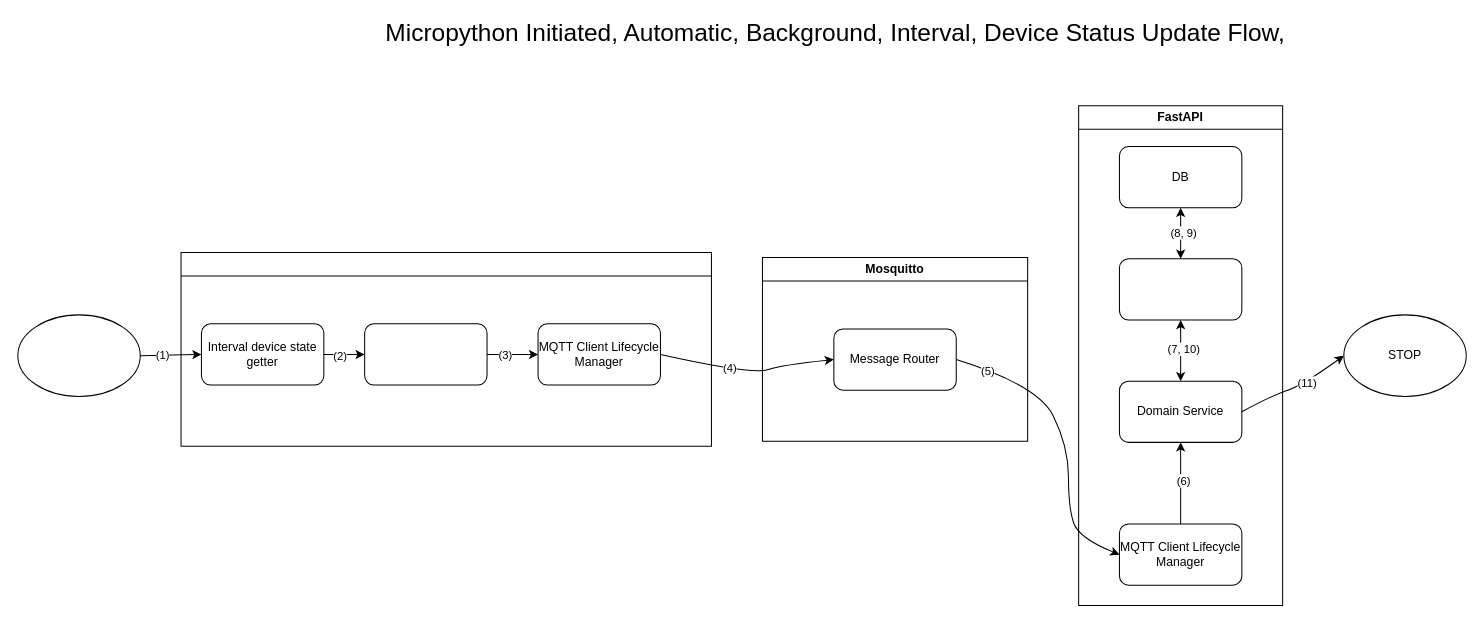
Some shapes in this 1484 by 623 pixel diagram are drawn without their labels. The box of each missing label's shape, as (x1, y1, x2, y2) in pixels:
DB Client Lifecycle Manager: (1118, 258, 1242, 320)
Device manager: (364, 323, 487, 385)
MicroPython: (180, 251, 711, 446)
START: (17, 314, 140, 396)
